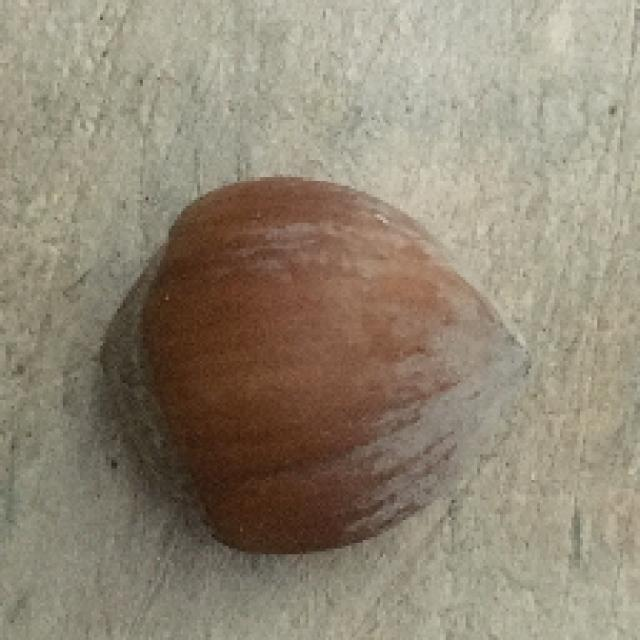QualityHazelnut: (104, 174, 542, 556)
